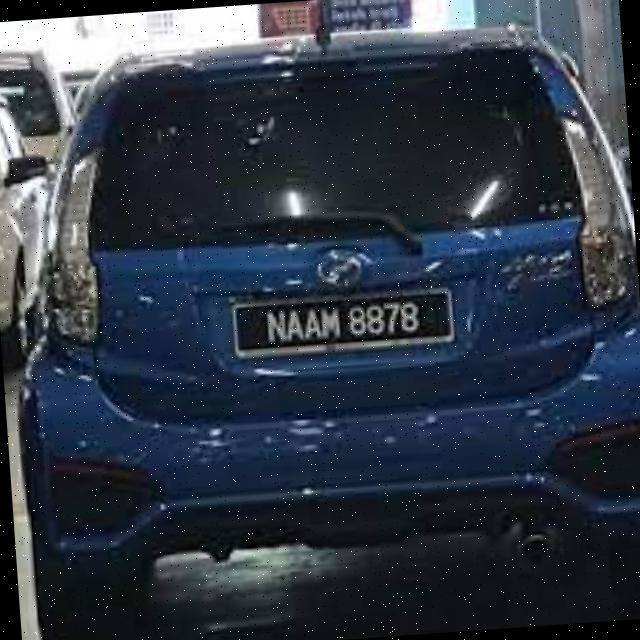License_Plate: (236, 275, 457, 375)
car: (1, 8, 640, 640)
